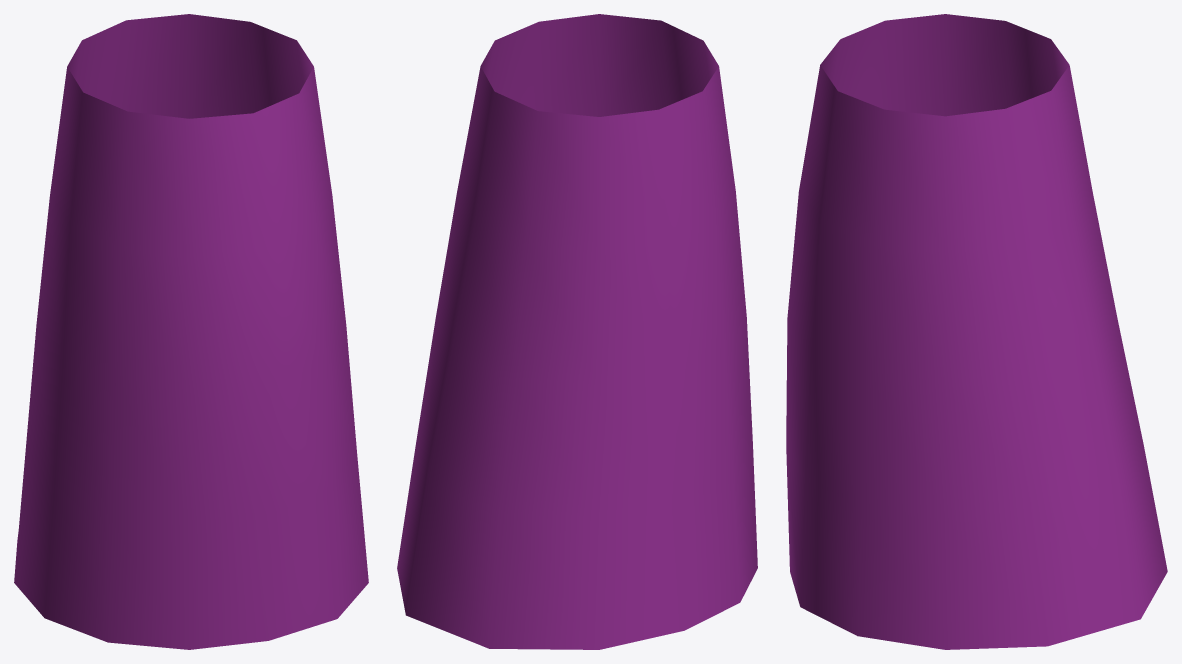
The model's file is nebula_armor_cuisse.L.glb.
3 renders of one model, left to right at view 1: azimuth 30°, elevation 25°; view 2: azimuth 150°, elevation 25°; view 3: azimuth 270°, elevation 25°, orthographic. The views are drawn at different scales.
Parts seen in each view (by area): view 1: nebula_armor_cuisse.L; view 2: nebula_armor_cuisse.L; view 3: nebula_armor_cuisse.L.
Boxes of the visible parts, x1,y1,x2,y2 form: nebula_armor_cuisse.L: [14, 14, 368, 649]; nebula_armor_cuisse.L: [397, 14, 757, 649]; nebula_armor_cuisse.L: [786, 14, 1167, 649].
Bounding box in the file's own units: 0.2312 × 0.37 × 0.2524.
